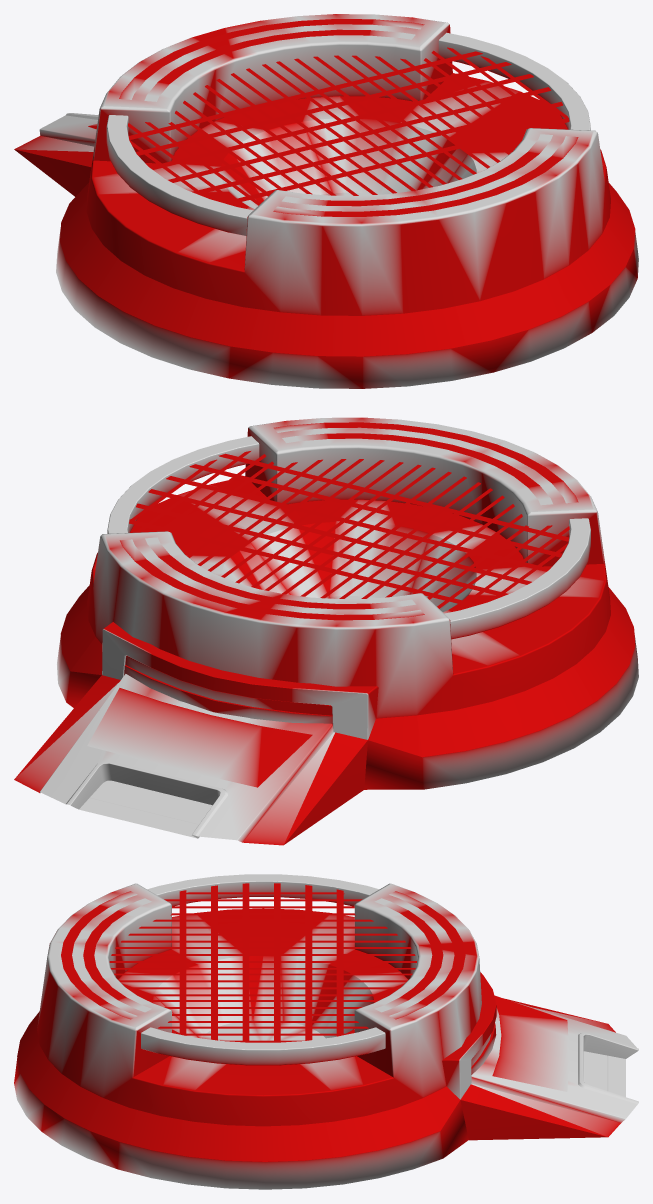
The model's file is VentCap.fbx.
3 views of the same model, one above another, from view 1: azimuth 30°, elevation 25°; view 2: azimuth 150°, elevation 25°; view 3: azimuth 270°, elevation 25° (orthographic). The views are drawn at different scales.
Visible parts, largest first — view 1: GeneratorBiomass_static; view 2: GeneratorBiomass_static; view 3: GeneratorBiomass_static.
Part boxes in pixels (x1,y1,x2,y2): GeneratorBiomass_static: [14, 14, 638, 388]; GeneratorBiomass_static: [14, 417, 638, 845]; GeneratorBiomass_static: [14, 874, 638, 1189].
Size of the model in its own units: 288 by 81.29 by 358.
